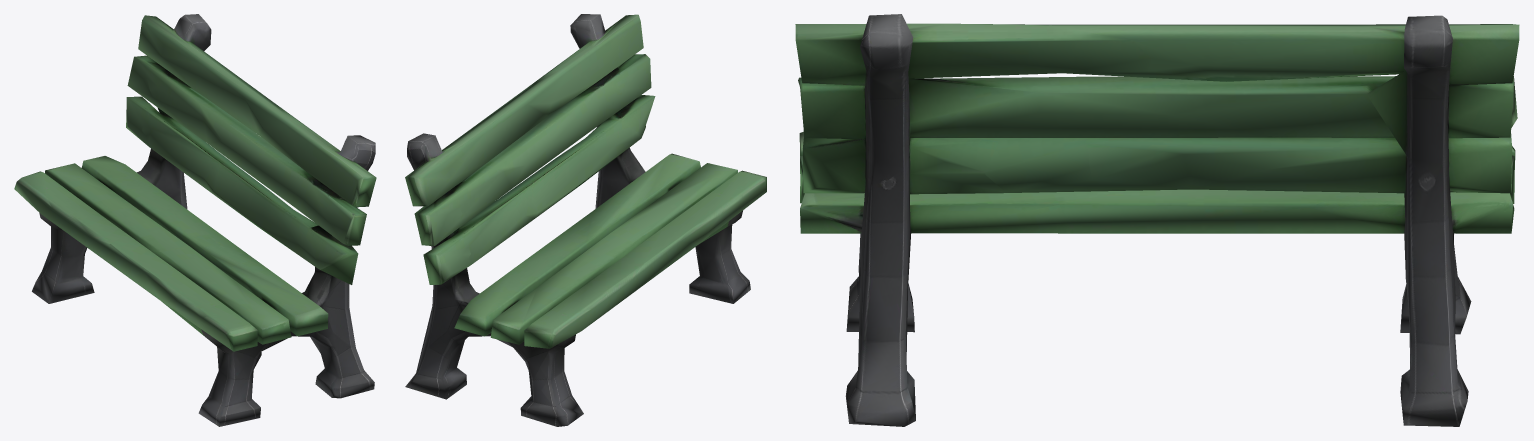
File: park-bench.glb
3 views of the same model, side by side, from view 1: azimuth 30°, elevation 25°; view 2: azimuth 150°, elevation 25°; view 3: azimuth 270°, elevation 25° (orthographic). The views are drawn at different scales.
Parts seen in each view (by area): view 1: tripo_node_a993a764-b194-4b3d-80e1-2e509cc86d23; view 2: tripo_node_a993a764-b194-4b3d-80e1-2e509cc86d23; view 3: tripo_node_a993a764-b194-4b3d-80e1-2e509cc86d23.
Part boxes in pixels (<box>): tripo_node_a993a764-b194-4b3d-80e1-2e509cc86d23: <box>14,14,376,426</box>; tripo_node_a993a764-b194-4b3d-80e1-2e509cc86d23: <box>405,14,766,426</box>; tripo_node_a993a764-b194-4b3d-80e1-2e509cc86d23: <box>795,14,1519,426</box>.
Size of the model in its own units: 0.441 by 0.6122 by 1.
1 material, 1 textured.
